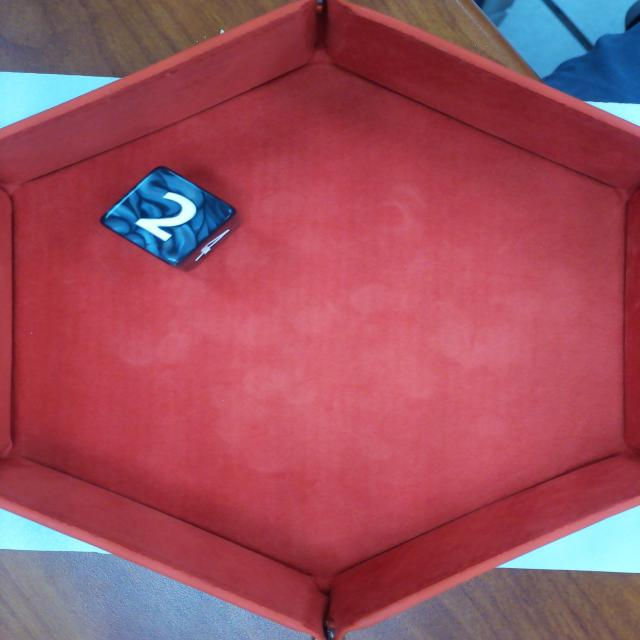dice: (107, 171, 227, 256)
